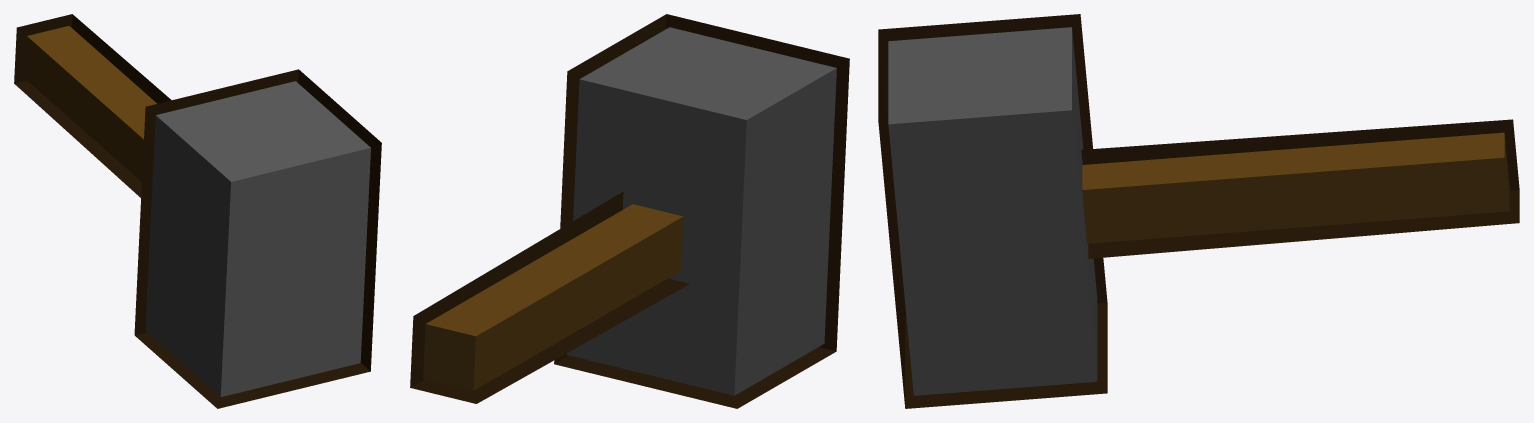
Rendered from Hammer.FBX.
The picture shows the model from 3 angles, left to right: view 1: azimuth 30°, elevation 25°; view 2: azimuth 150°, elevation 25°; view 3: azimuth 270°, elevation 25°; orthographic projection. The views are drawn at different scales.
Parts seen in each view (by area): view 1: Hammer; view 2: Hammer; view 3: Hammer.
Boxes of the visible parts, x1=… form: Hammer: x1=14, y1=14, x2=381, y2=408; Hammer: x1=410, y1=14, x2=849, y2=408; Hammer: x1=878, y1=14, x2=1519, y2=408.
Size of the model in its own units: 21.77 by 33.87 by 64.79.
Materials: 1 (1 with a texture image).
